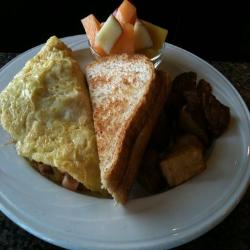bread: (83, 54, 171, 217)
omelette: (1, 39, 100, 212)
